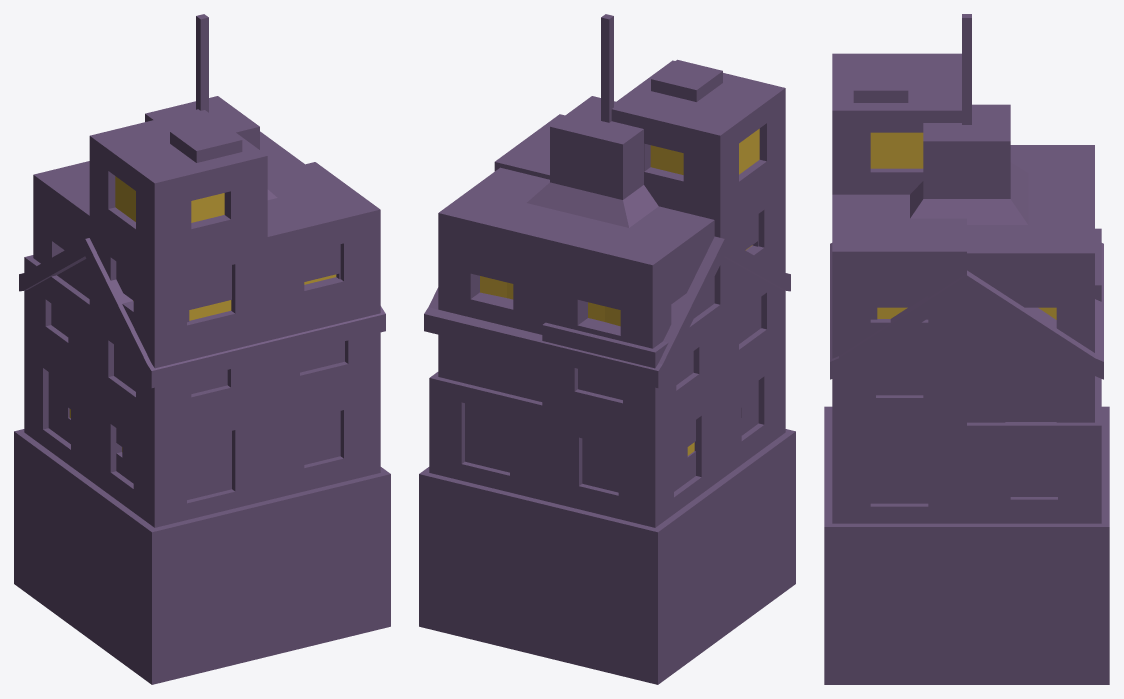
Rendered from building1.fbx.
3 renders of one model, left to right at view 1: azimuth 30°, elevation 25°; view 2: azimuth 150°, elevation 25°; view 3: azimuth 270°, elevation 25°, orthographic. The views are drawn at different scales.
Visible parts, largest first — view 1: Cube.002, Cube.003, Cube.004, Cube, Cube.001; view 2: Cube.002, Cube, Cube.003, Cube.001, Cube.004; view 3: Cube.002, Cube.003, Cube, Cube.004, Cube.001.
Boxes of the visible parts, x1,y1,x2,y2 form: Cube.002: (14, 109, 390, 684); Cube.003: (19, 238, 385, 499); Cube.004: (33, 202, 342, 498); Cube: (33, 131, 344, 497); Cube.001: (145, 14, 277, 199); Cube.002: (419, 59, 795, 684); Cube: (438, 167, 758, 491); Cube.003: (424, 236, 790, 492); Cube.001: (527, 14, 658, 227); Cube.004: (465, 215, 758, 491); Cube.002: (824, 53, 1109, 684); Cube.003: (830, 243, 1103, 503); Cube: (870, 145, 1094, 502); Cube.004: (870, 281, 1094, 503); Cube.001: (910, 14, 1028, 224).
Size of the model in its own units: 668 by 1573 by 668.
